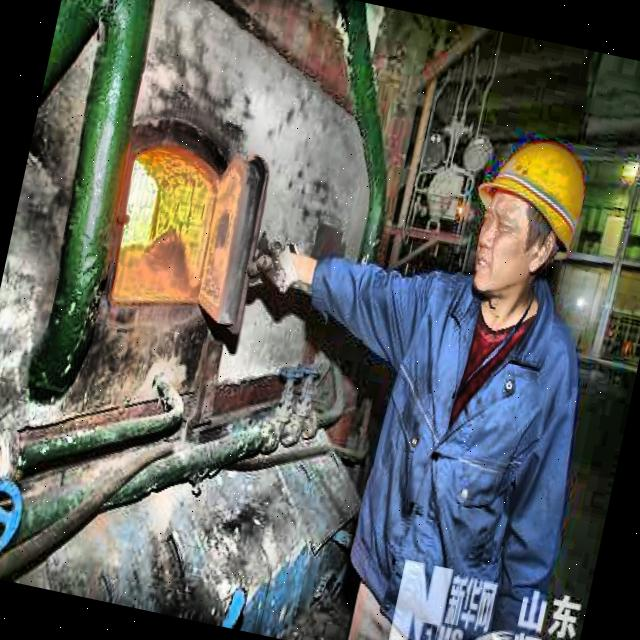helmet: (450, 110, 613, 326)
